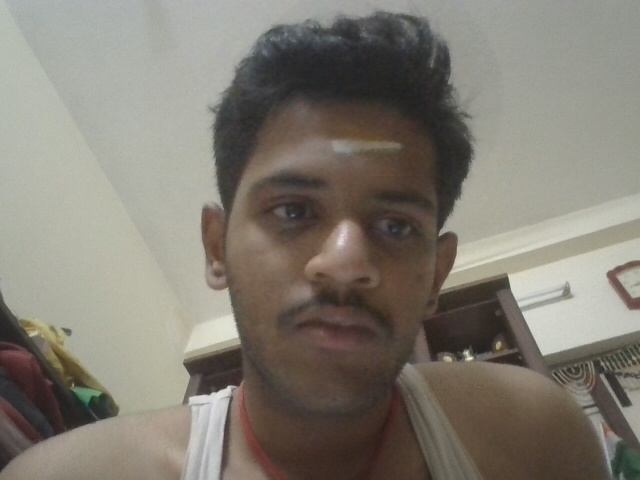real: (195, 94, 492, 391)
